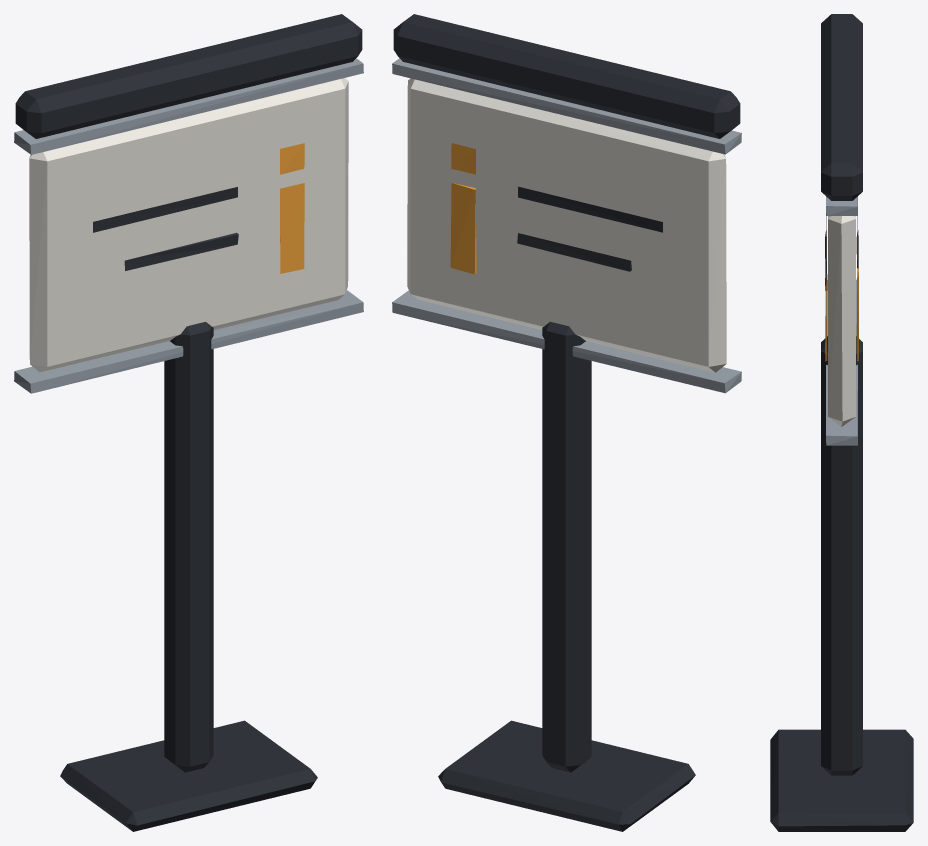
Rendered from info_signpost_lod1.obj.
3 views of the same model, side by side, from view 1: azimuth 30°, elevation 25°; view 2: azimuth 150°, elevation 25°; view 3: azimuth 270°, elevation 25° (orthographic). The views are drawn at different scales.
Visible parts, largest first — view 1: info_signpost_lod1; view 2: info_signpost_lod1; view 3: info_signpost_lod1.
Part boxes in pixels (left/top/right/bottom): info_signpost_lod1: left=14, top=14, right=363, bottom=831; info_signpost_lod1: left=392, top=14, right=741, bottom=831; info_signpost_lod1: left=770, top=14, right=913, bottom=831.
Bounding box in the file's own units: 1.06 × 2.2 × 0.4063.
